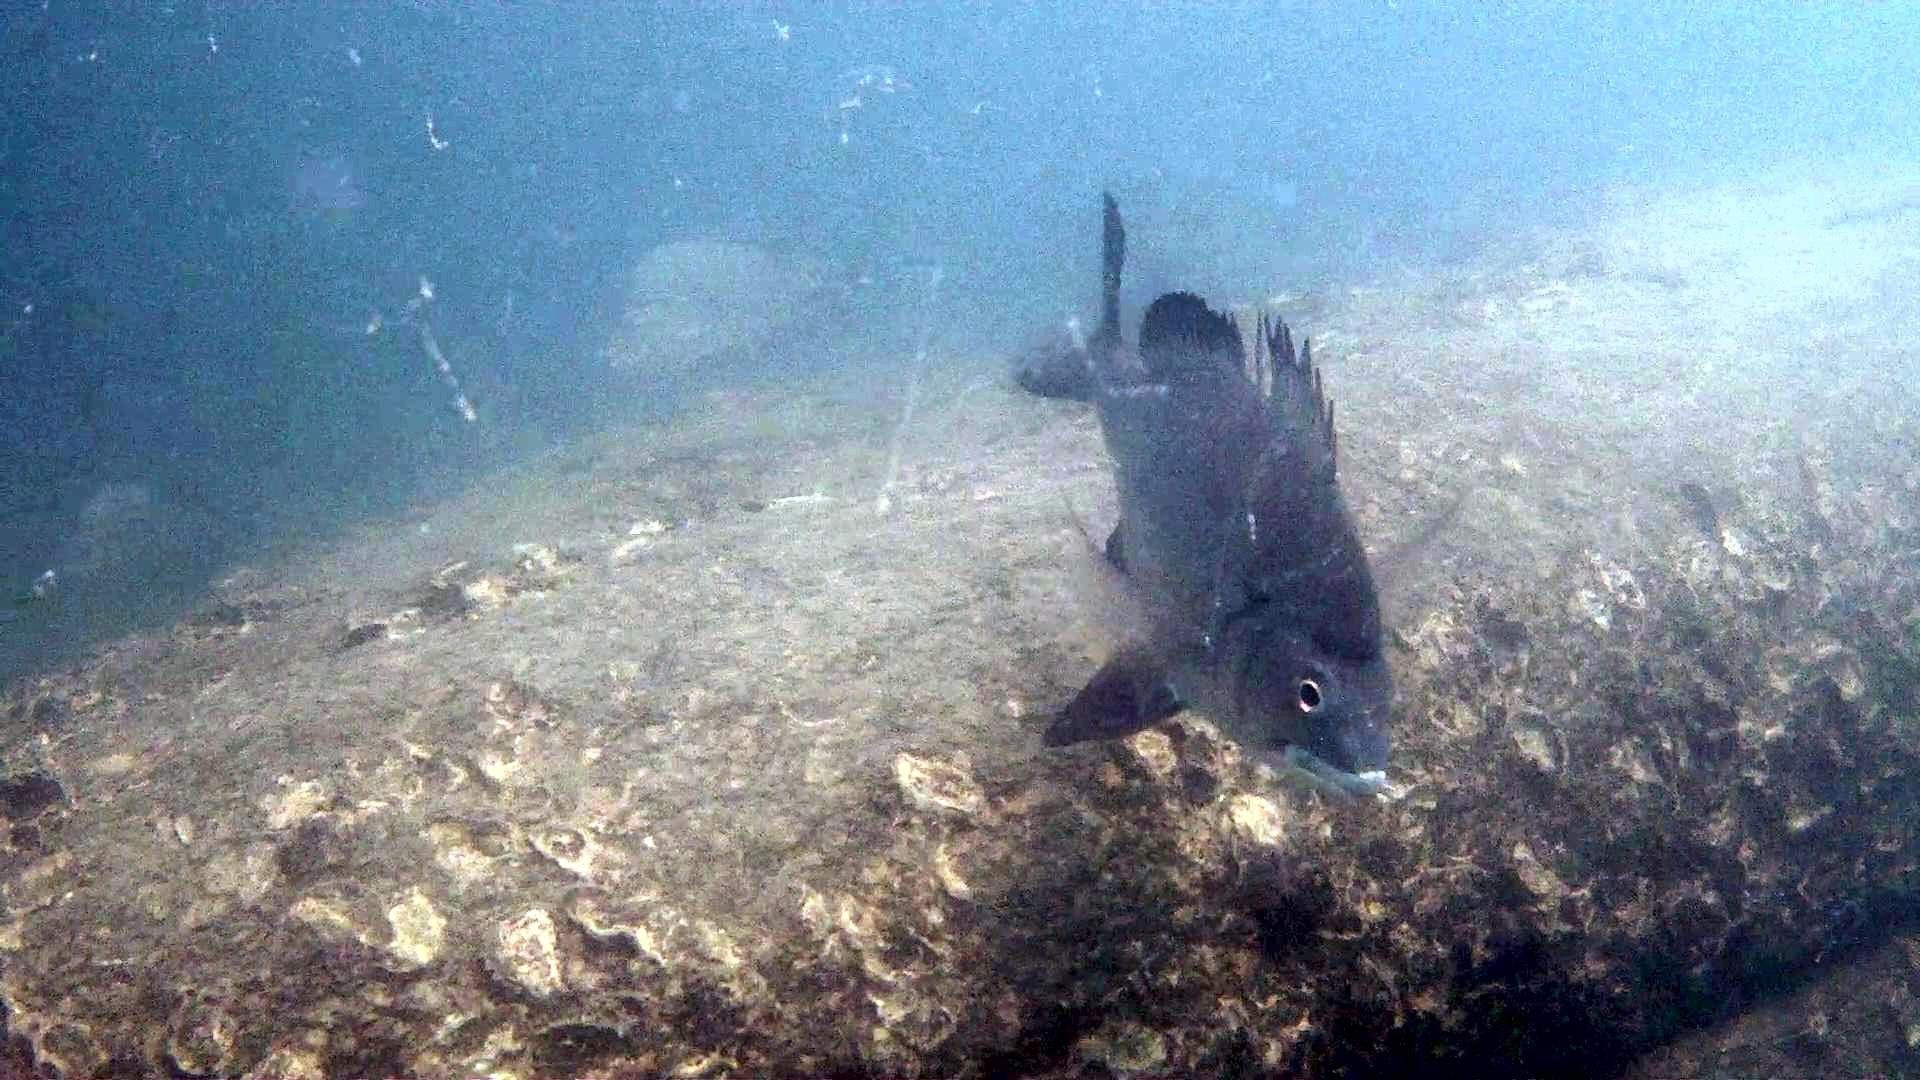acanthopagrus palmaris: (1007, 167, 1485, 796)
